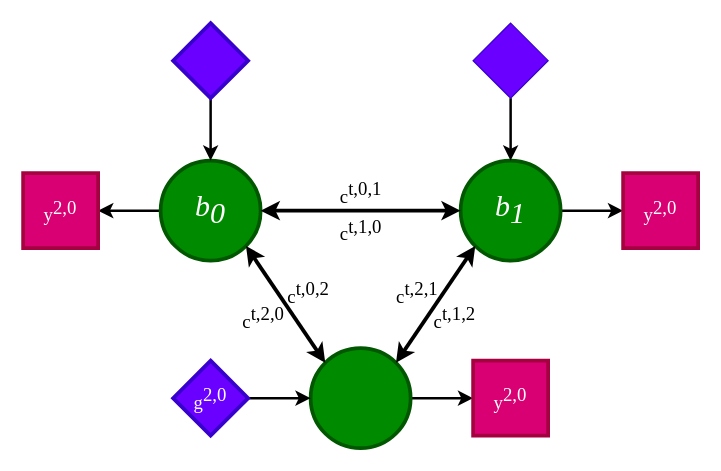
Some shapes in this 721 by 471 pixel diagram are drawn without their labels. Here are the shapes that lost their labels. From the top down, the centre of each, then its label:
the point at 210,60: g 0,0
the point at 510,60: g 1,0
the point at 360,397: b 2
